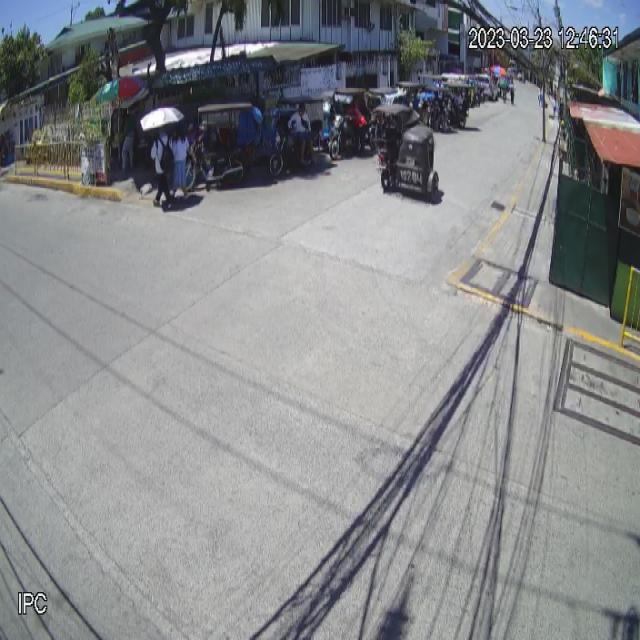Tricycle: (371, 103, 441, 205)
